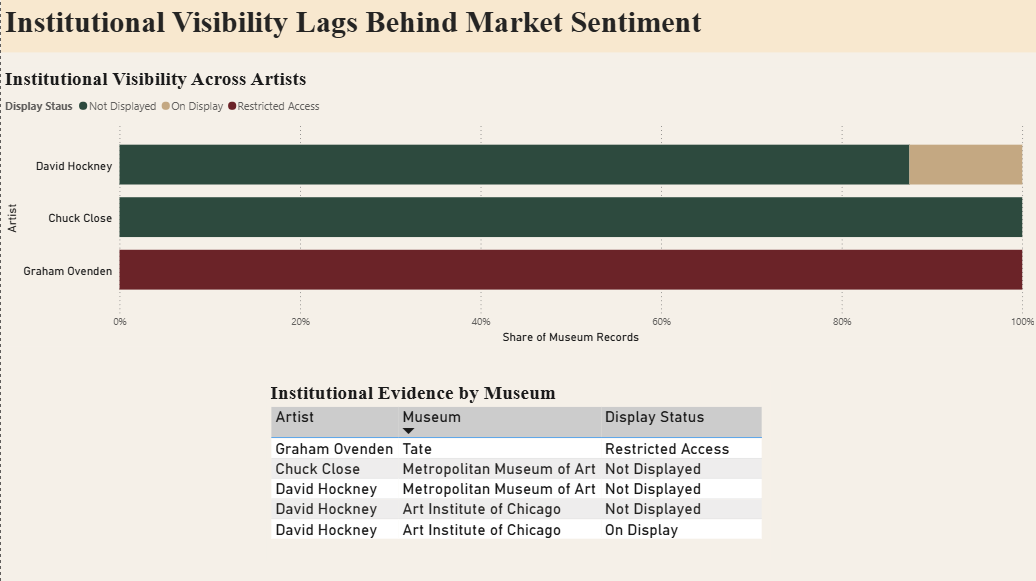

This screenshot's page, from the dashboard's own definition file:
{"tool":"powerbi","page":{"name":"Institutional Signal","canvas":[1280,720],"ordinal":3},"visuals":[{"type":"textbox","box":[0,0,1280.5,64.6],"z":0},{"type":"hundredPercentStackedBarChart","title":"Institutional Visibility Across Artists","fields":{"Category":["dim_artist.artist_name"],"Y":["CountNonNull(vw_institutional_signal.museum_name)"],"Series":["vw_institutional_signal.Display Status Clean"]},"box":[0,82.8,1280.5,344.5],"z":1000},{"type":"tableEx","title":"Institutional Evidence by Museum","fields":{"Values":["vw_institutional_signal.artist_name","vw_institutional_signal.museum_name","vw_institutional_signal.Display Status Clean"]},"box":[328,470.4,622.8,222],"z":2000}]}

Visuals, with their boxes in screenshot pixels (x1, y1, x2, y2), scaled from the page's 1280x720 canvas onto the 1036x581 screenshot:
textbox: select_region(0, 0, 1035, 52)
"Institutional Visibility Across Artists" hundredPercentStackedBarChart: select_region(0, 67, 1035, 345)
"Institutional Evidence by Museum" tableEx: select_region(265, 380, 770, 559)
